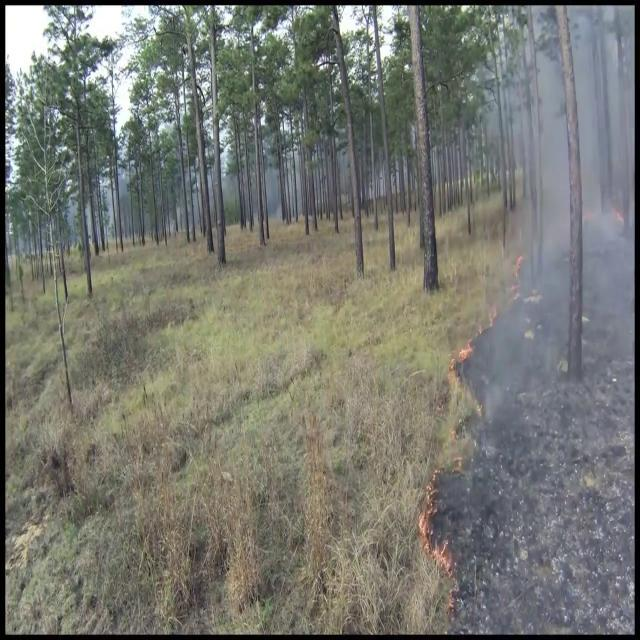Smoke: (482, 16, 634, 531)
